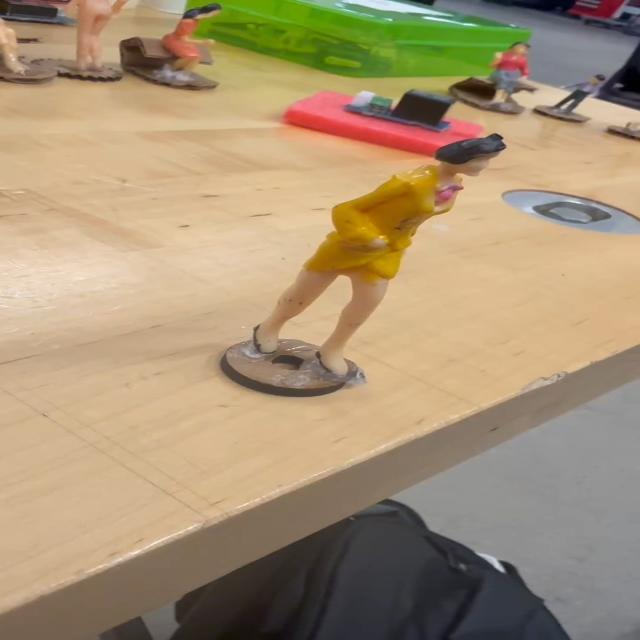Authorized: (261, 129, 514, 383)
